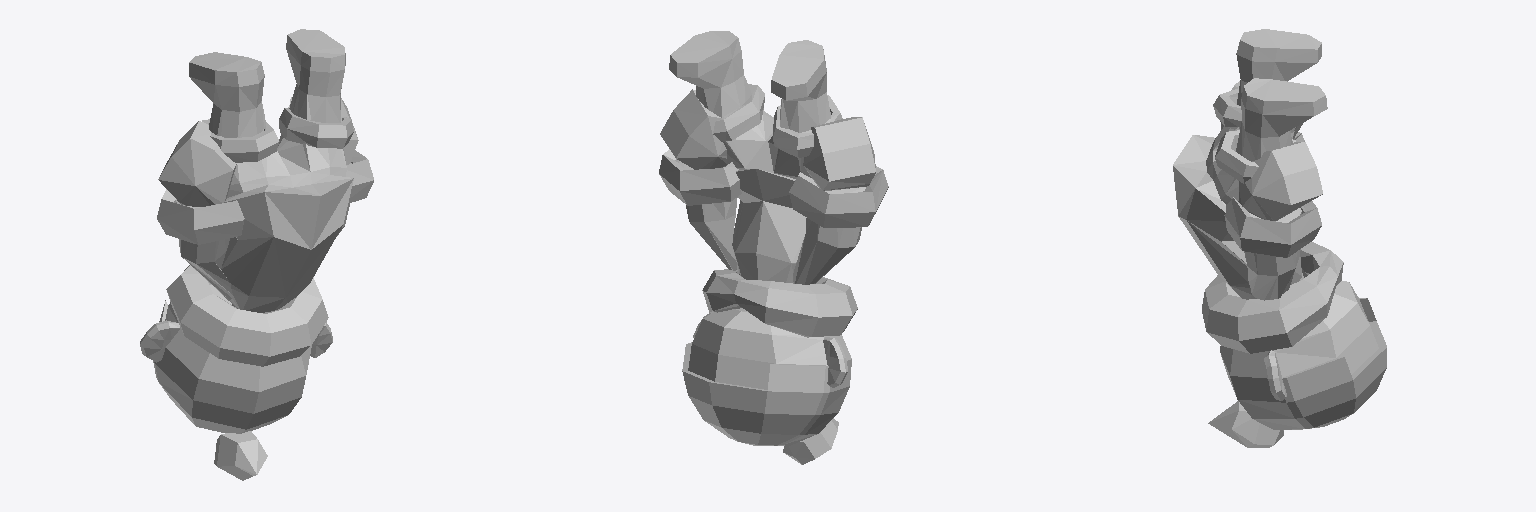
Rendered from eikadebil_000012.obj.
The picture shows the model from 3 angles: view 1: azimuth 30°, elevation 25°; view 2: azimuth 150°, elevation 25°; view 3: azimuth 270°, elevation 25°; orthographic projection.
Visible parts, largest first — view 1: Cylinder; view 2: Cylinder; view 3: Cylinder.
Part boxes in pixels (left/top/right/bottom): Cylinder: left=140, top=29, right=373, bottom=480; Cylinder: left=659, top=31, right=888, bottom=464; Cylinder: left=1173, top=29, right=1386, bottom=447.
Size of the model in its own units: 28.61 by 54.47 by 25.67.